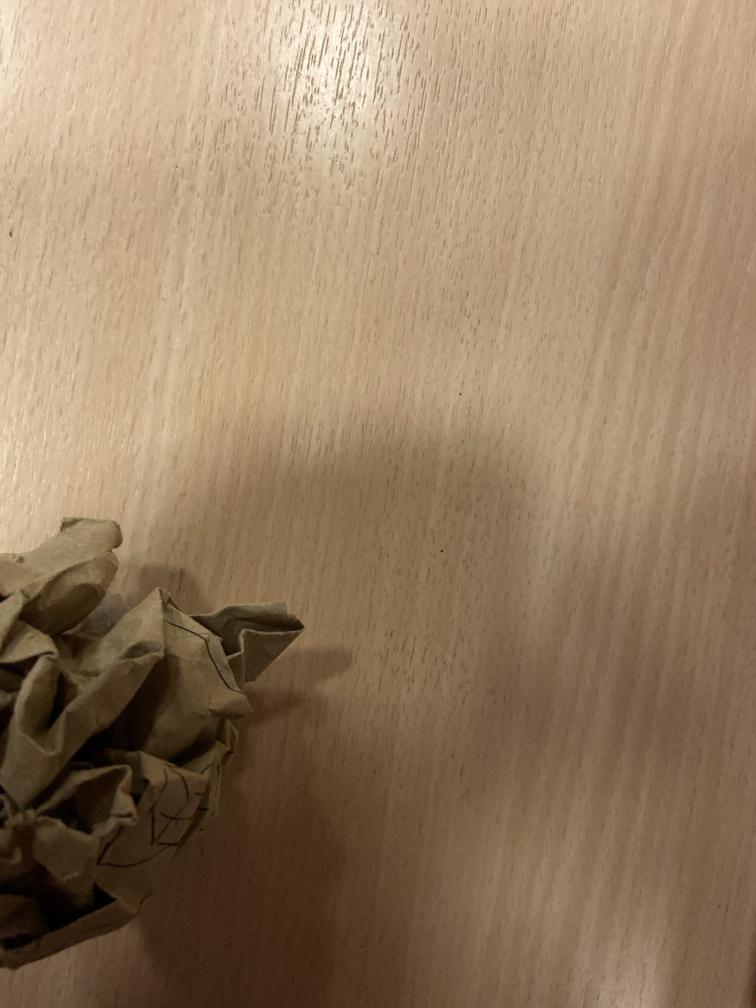paper_brown: (1, 502, 315, 986)
